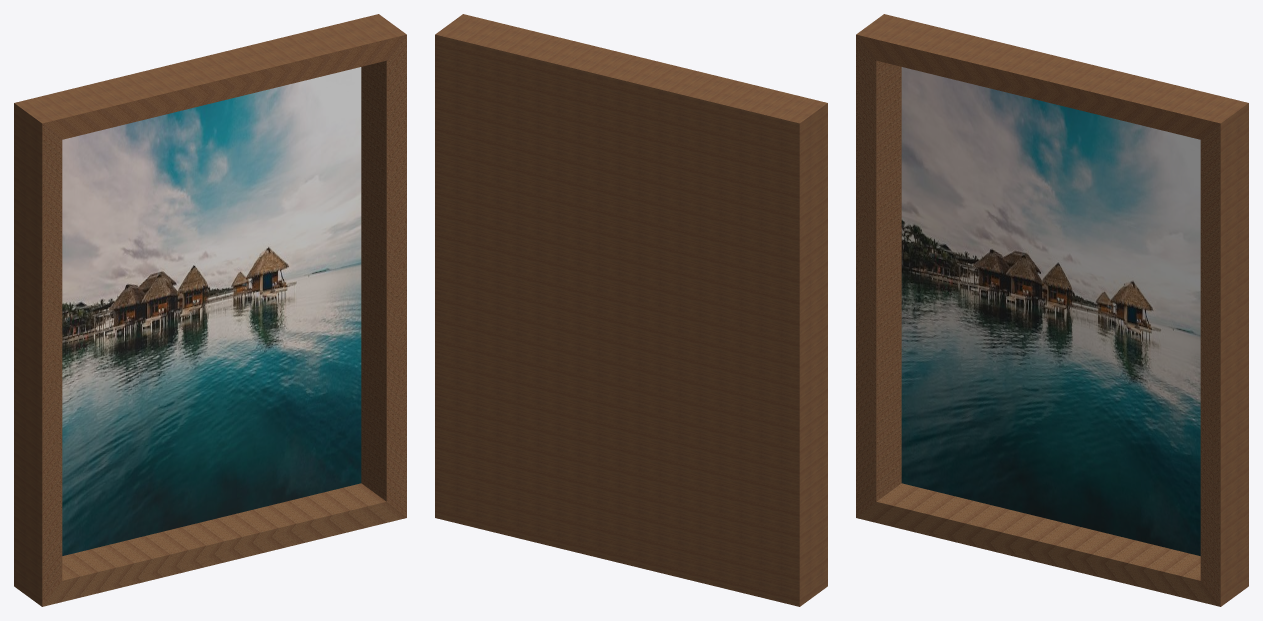
Rendered from Portrait.FBX.
3 renders of one model, left to right at view 1: azimuth 30°, elevation 25°; view 2: azimuth 150°, elevation 25°; view 3: azimuth 330°, elevation 25°, orthographic.
Parts seen in each view (by area): view 1: Picture Frame 3; view 2: Picture Frame 3; view 3: Picture Frame 3.
Part boxes in pixels (left/top/right/bottom): Picture Frame 3: left=14, top=14, right=406, bottom=606; Picture Frame 3: left=435, top=14, right=827, bottom=606; Picture Frame 3: left=856, top=14, right=1248, bottom=606.
Size of the model in its own units: 18 by 22.8 by 2.4.
Materials: 2 (2 with a texture image).
